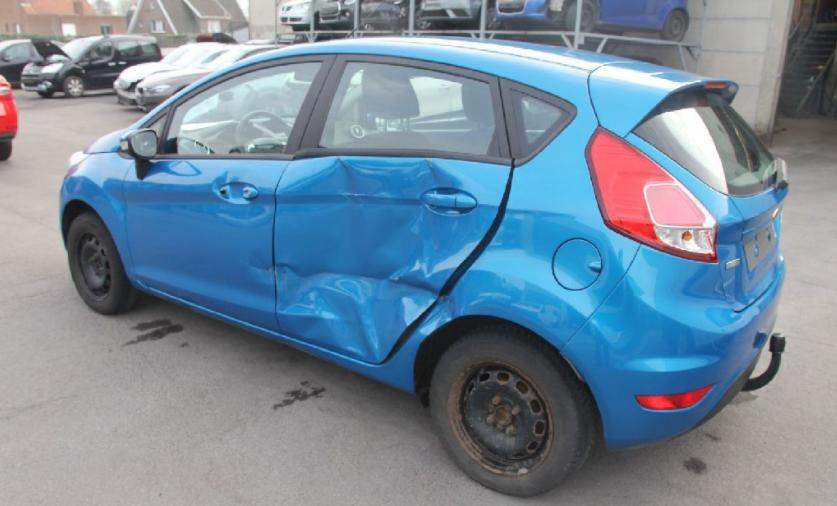Back-bumper: (564, 246, 783, 450)
Back-door: (276, 54, 511, 363)
Back-wheel: (427, 325, 598, 498)
Back-window: (319, 62, 495, 154), (512, 89, 570, 157)
Back-windshield: (633, 89, 780, 194)
Fender: (59, 153, 138, 281)
Front-door: (124, 55, 336, 331)
Front-wheel: (67, 212, 140, 314)
Front-window: (162, 61, 324, 155), (148, 114, 167, 136)
Headlight: (67, 152, 90, 173)
Hood: (84, 126, 130, 154)
License-plate: (743, 221, 778, 274)
Mirror: (121, 127, 159, 180)
Quarter-panel: (384, 108, 638, 374)
Rocker-panel: (131, 281, 415, 395)
Roof: (291, 35, 640, 70)
Tail-light: (588, 125, 716, 261)
Trunk: (588, 61, 789, 311)
